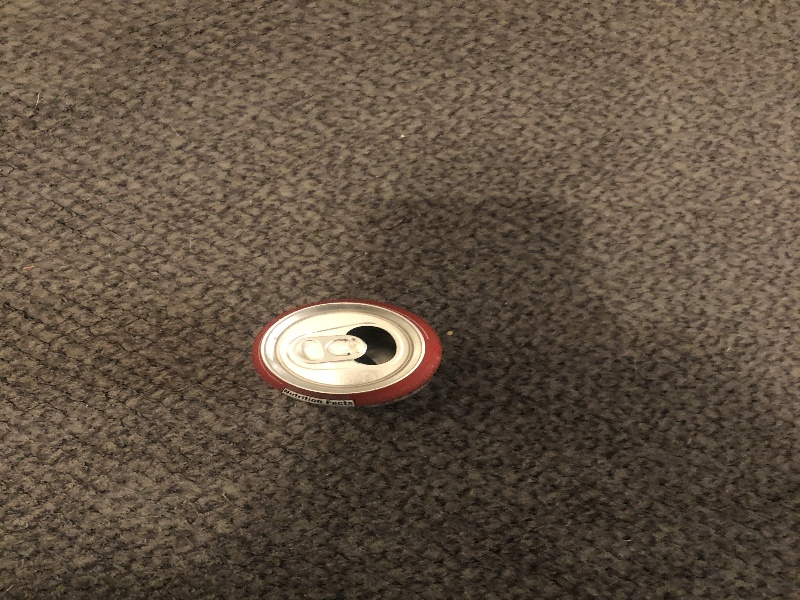metal: (248, 294, 449, 415)
